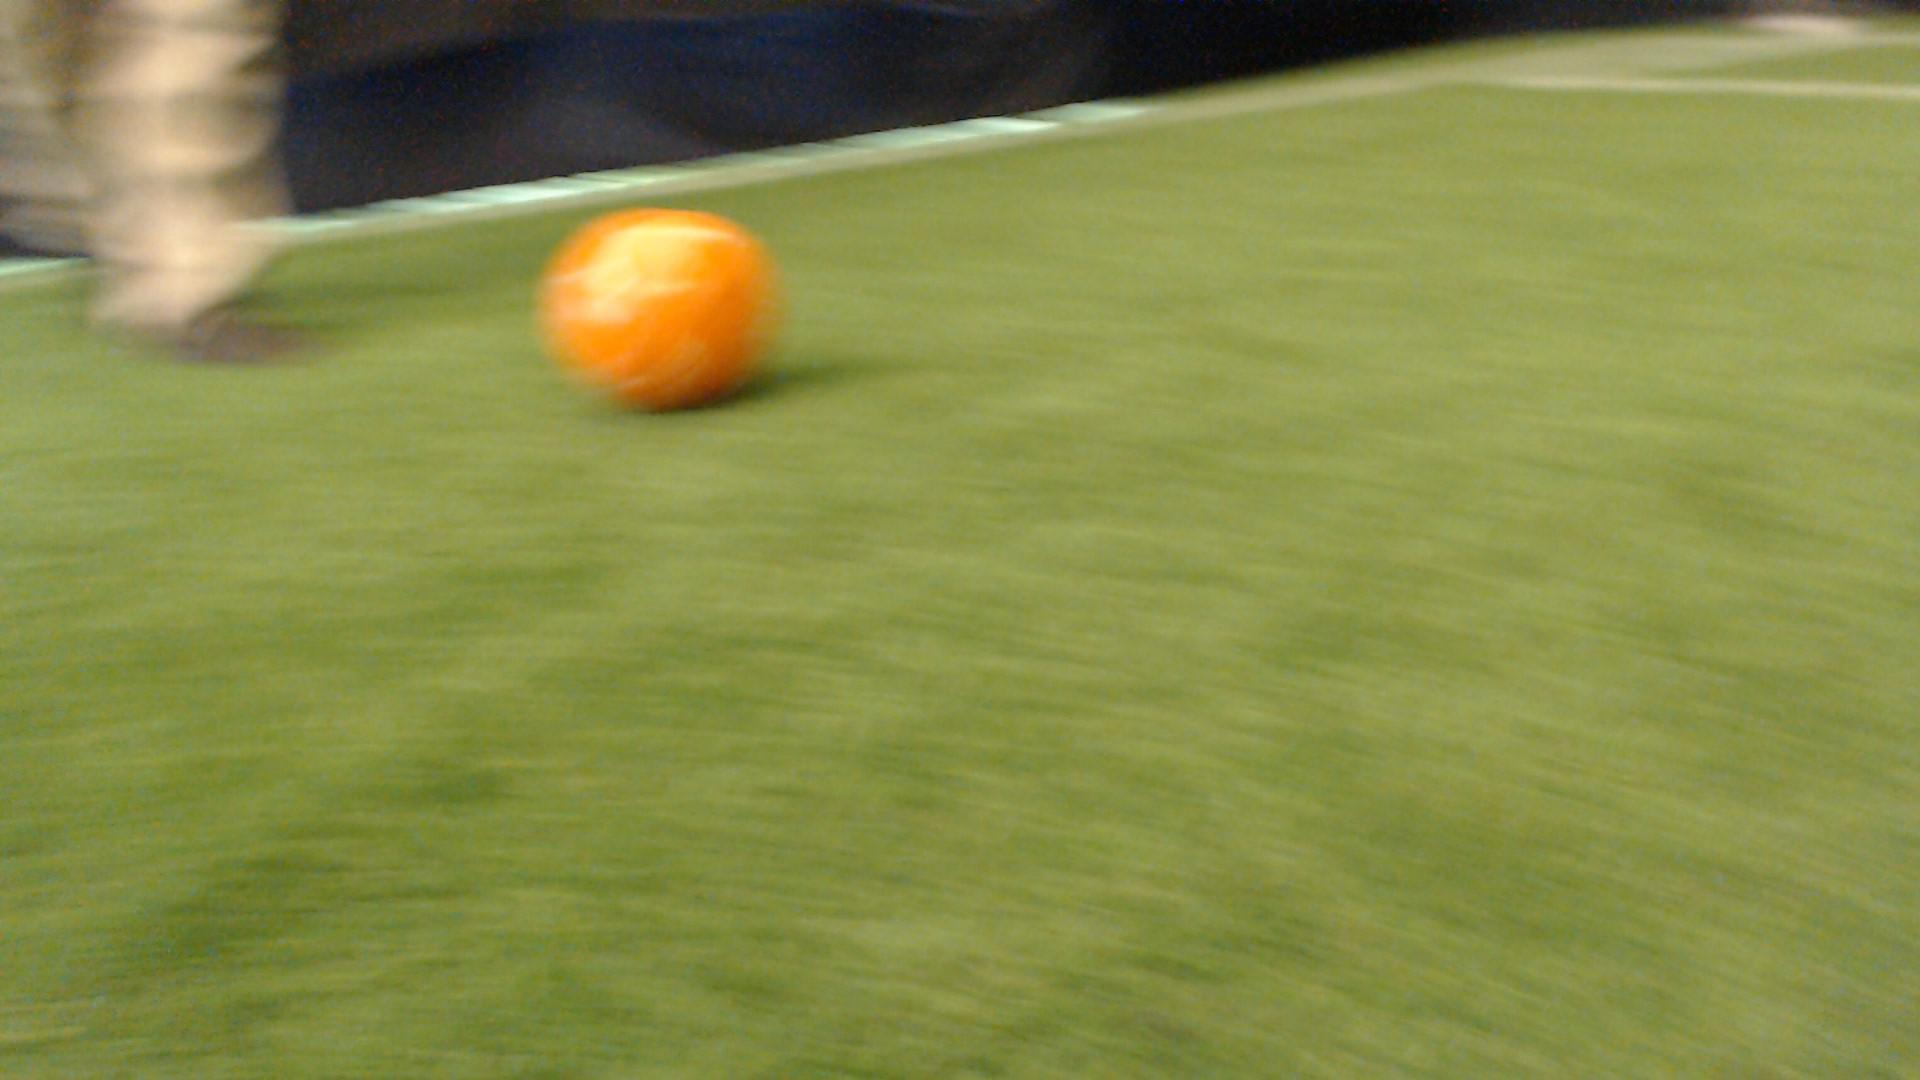bola: (527, 182, 803, 429)
